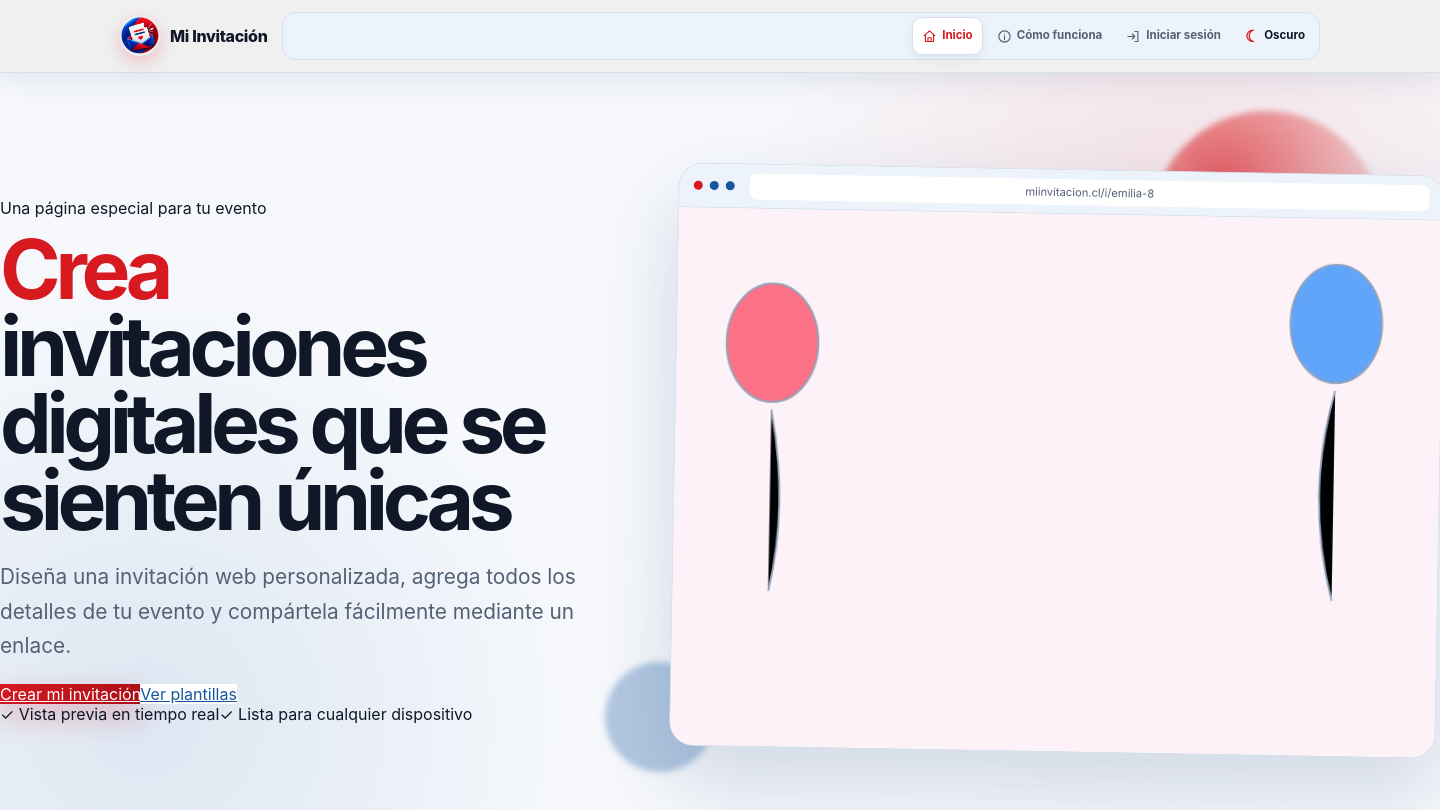
HomePage redesign › switches between light and dark themes and remembers the choice
Click the button with aria-label "Cambiar a tema oscuro": point(1275, 36) 1235,17 -> 1315,55
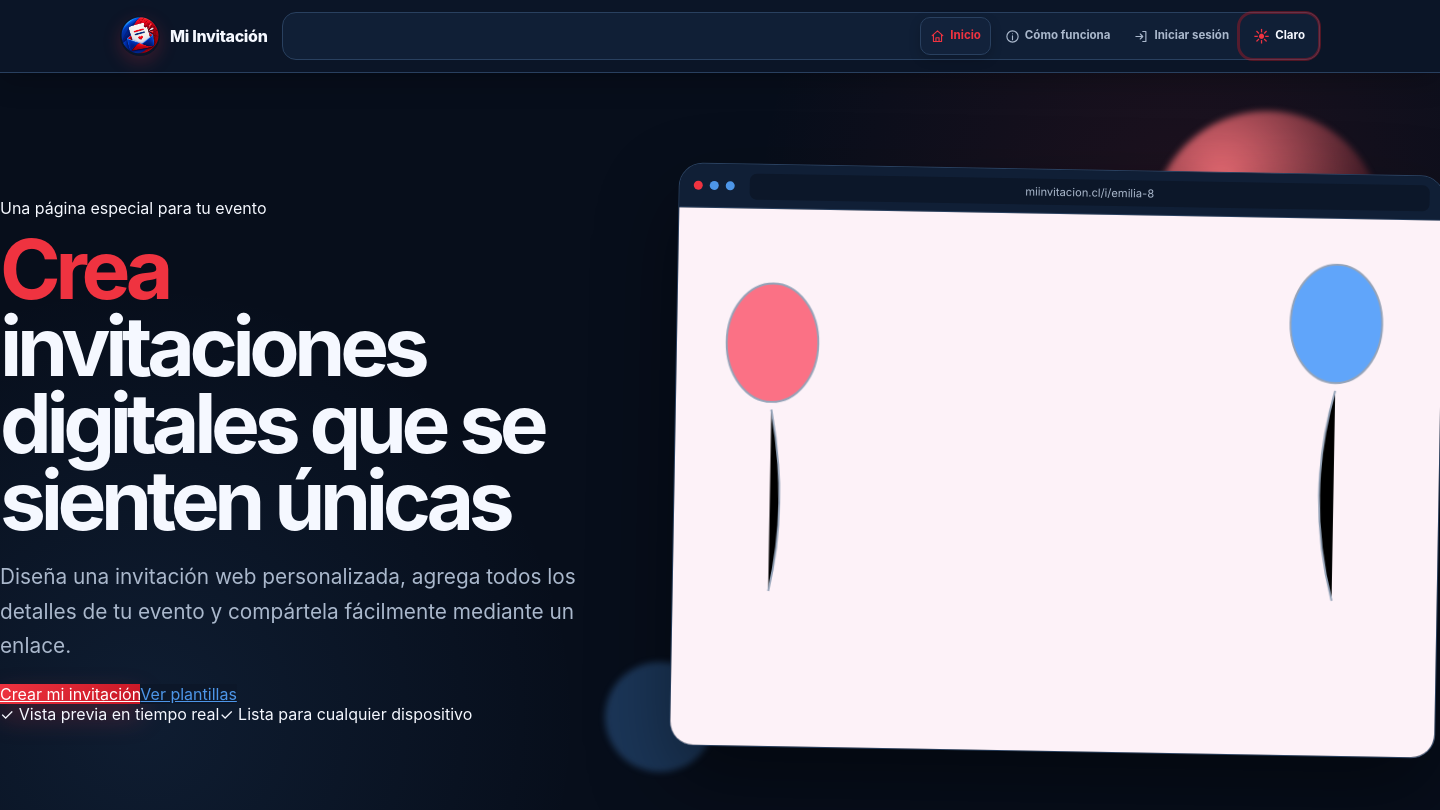
expect the button with aria-label "Cambiar a tema claro" is shown: met, box 1243,17 -> 1315,55
